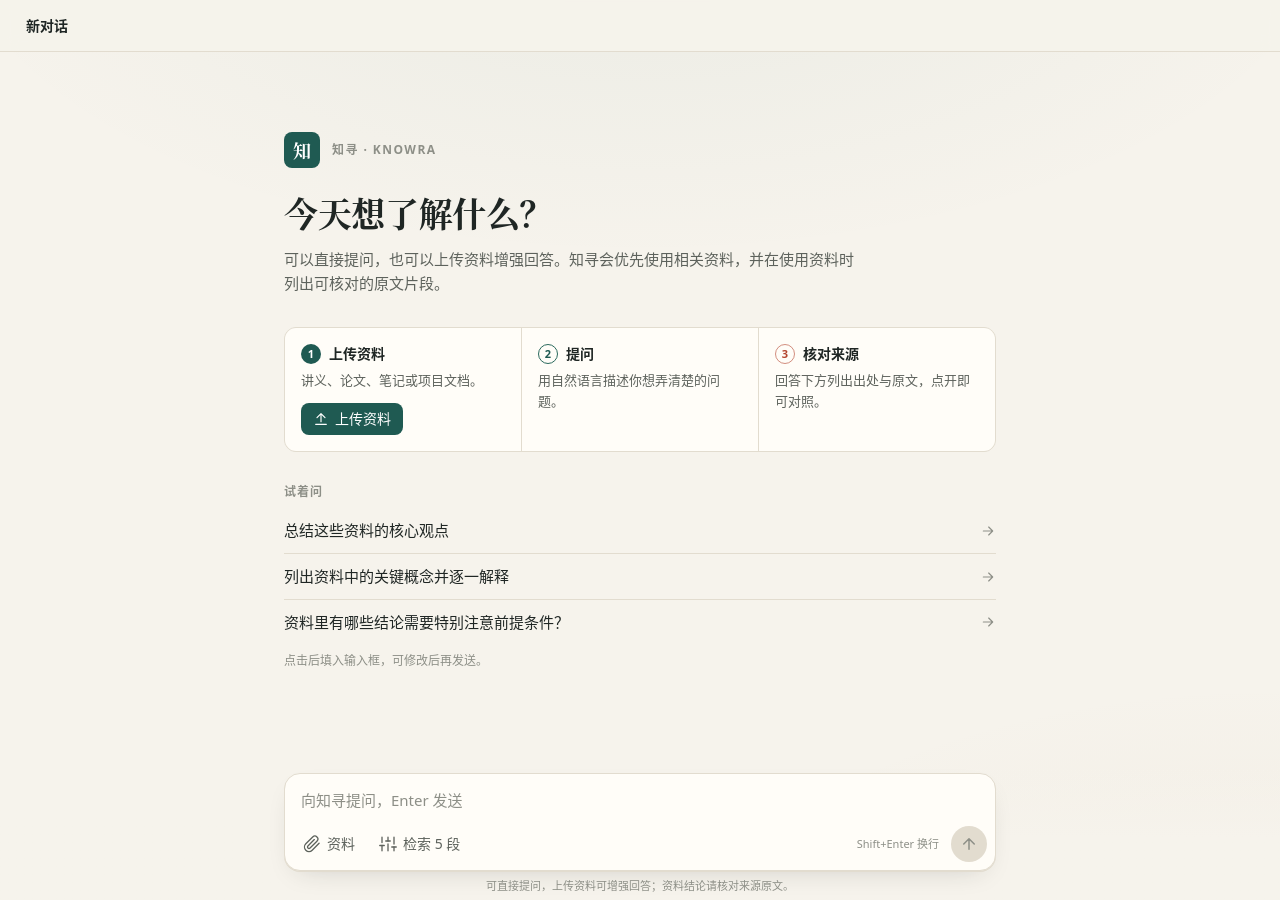
Test: ChatArea 问答流 › 引用统计按引用文档去重计数
The image size is (1280, 900).
Type "什么是特征值" into the text box with test id "chat-input". click: (640, 800)
box: [285,774,995,826]
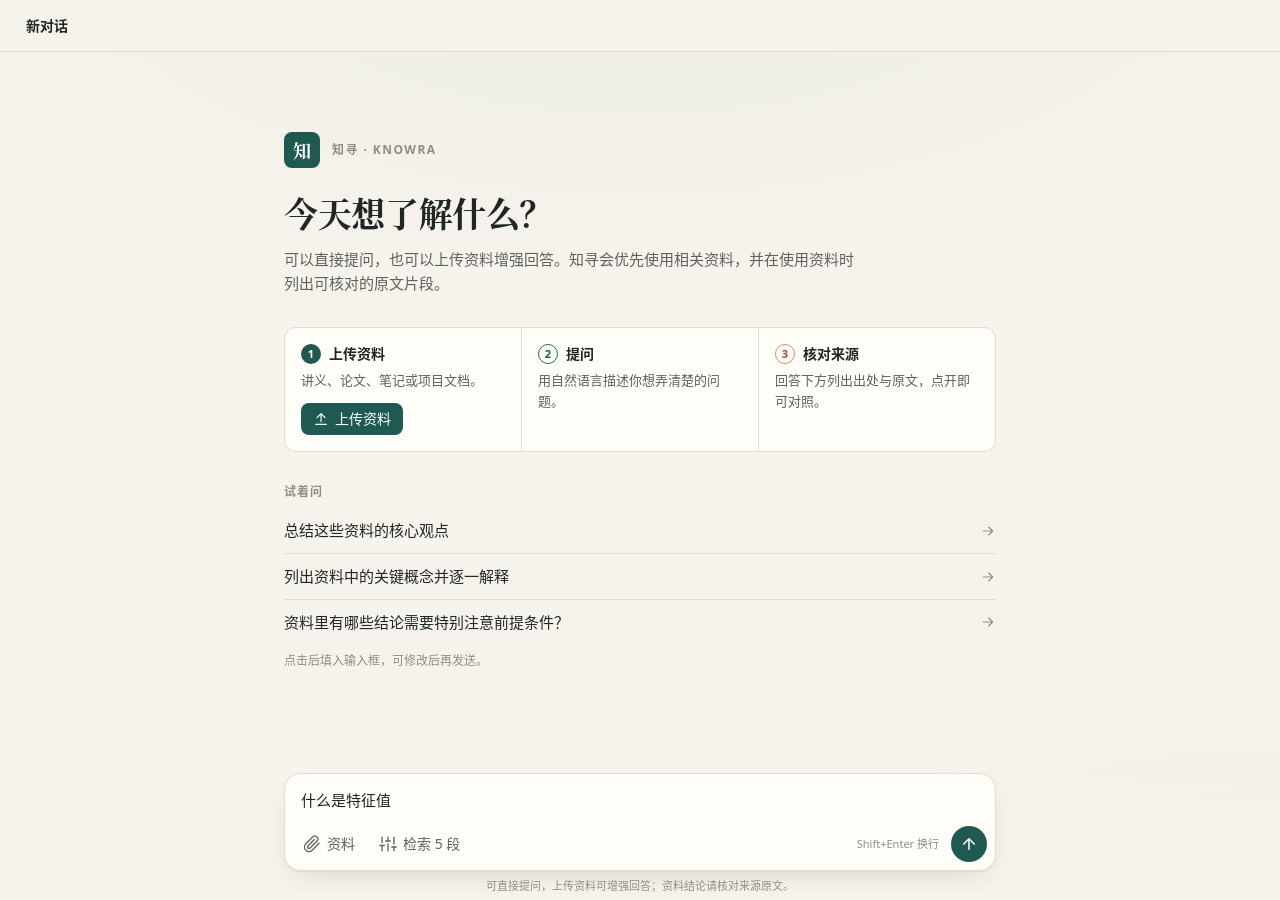
Press Enter in the text box with test id "chat-input", box [285,774,995,826]
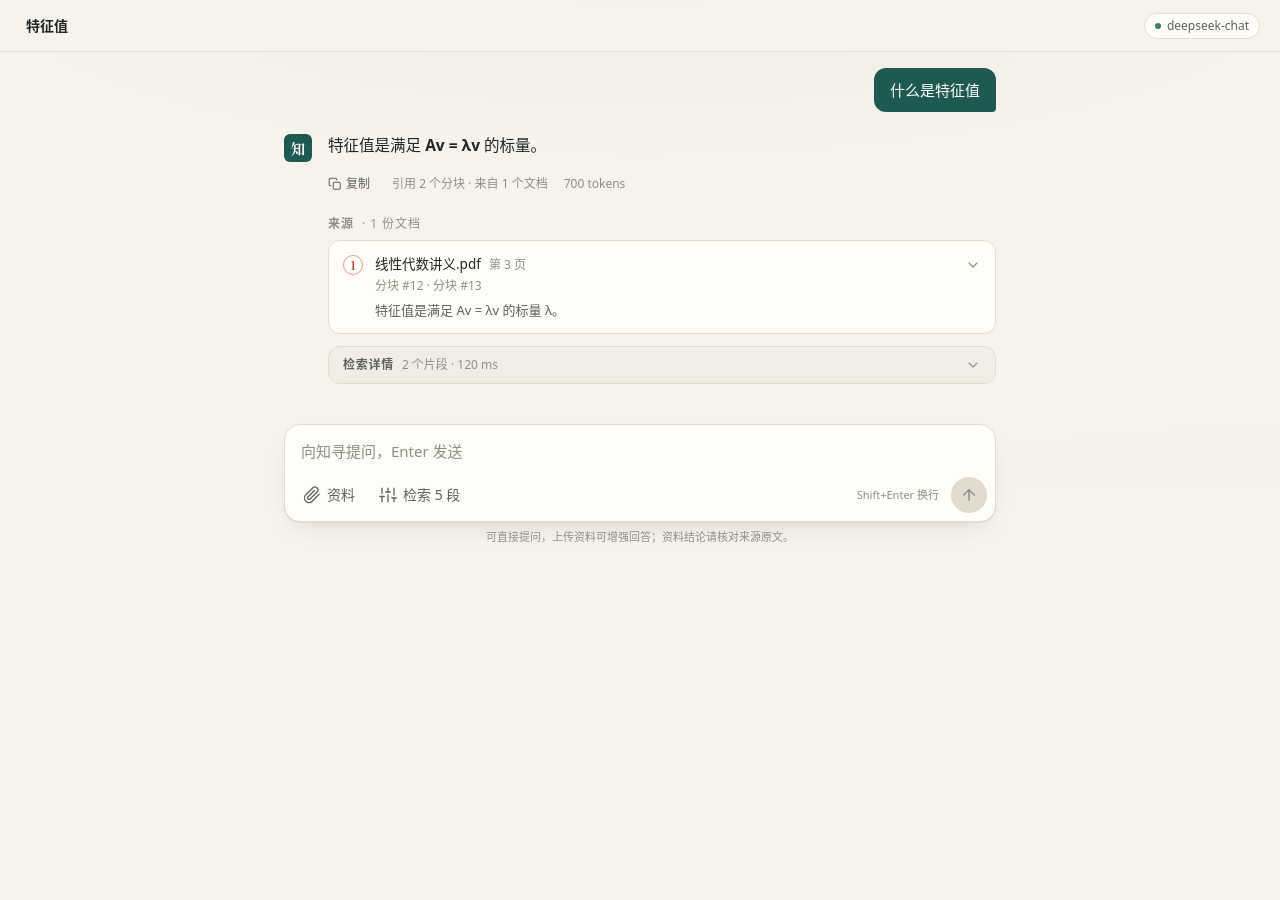
Now the text with test id "citation-stats" shows "引用 2 个分块", box [392,175,548,192]
Now the text with test id "citation-stats" shows "来自 1 个文档", box [392,175,548,192]
